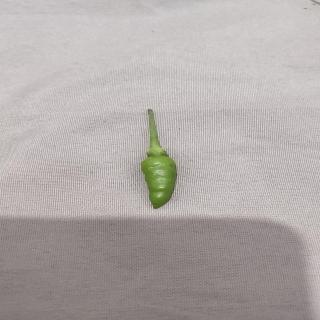Cabai Hijau: (135, 103, 189, 213)
